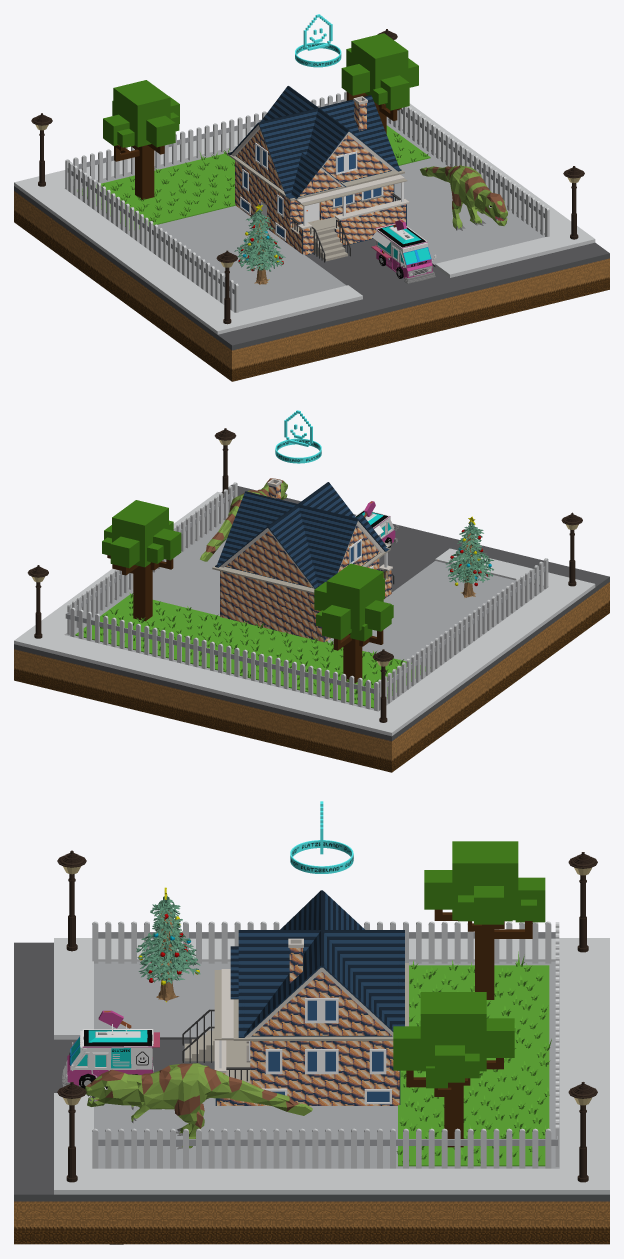
3 views of the same model, one above another, from view 1: azimuth 30°, elevation 25°; view 2: azimuth 150°, elevation 25°; view 3: azimuth 270°, elevation 25° (orthographic). The views are drawn at different scales.
Parts seen in each view (by area): view 1: Cube.004, Cube.430, ANIMAL_TREX, VEHICLES_ICE_CREAM_TRUCK, OBJRANDOM_CHRISTMAS_TREE, TYPE_PREMIUM; view 2: Cube.004, Cube.430, OBJRANDOM_CHRISTMAS_TREE, ANIMAL_TREX, TYPE_PREMIUM, VEHICLES_ICE_CREAM_TRUCK; view 3: Cube.004, Cube.430, ANIMAL_TREX, VEHICLES_ICE_CREAM_TRUCK, OBJRANDOM_CHRISTMAS_TREE, TYPE_PREMIUM.
Part boxes in pixels (x1,y1,x2,y2): Cube.004: (14,29,609,381); Cube.430: (226,86,409,262); ANIMAL_TREX: (420,165,507,230); VEHICLES_ICE_CREAM_TRUCK: (371,219,436,283); OBJRANDOM_CHRISTMAS_TREE: (234,204,285,284); TYPE_PREMIUM: (295,14,341,67); Cube.004: (14,428,609,772); Cube.430: (212,478,394,642); OBJRANDOM_CHRISTMAS_TREE: (445,516,493,597); ANIMAL_TREX: (200,478,287,561); TYPE_PREMIUM: (275,410,321,463); VEHICLES_ICE_CREAM_TRUCK: (355,501,398,548); Cube.004: (14,841,609,1244); Cube.430: (182,890,408,1105); ANIMAL_TREX: (85,1063,312,1149); VEHICLES_ICE_CREAM_TRUCK: (62,1010,159,1089); OBJRANDOM_CHRISTMAS_TREE: (136,887,200,1002); TYPE_PREMIUM: (290,801,353,873).
Size of the model in its own units: 4000 by 2440 by 4000.
47 materials, 5 textured.
